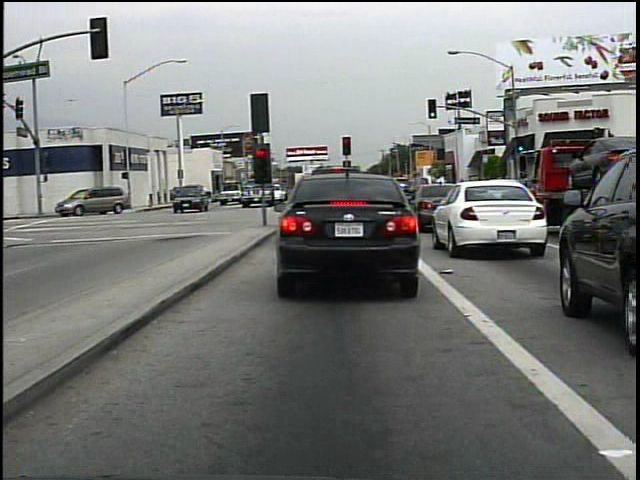person: (192, 180, 214, 205)
